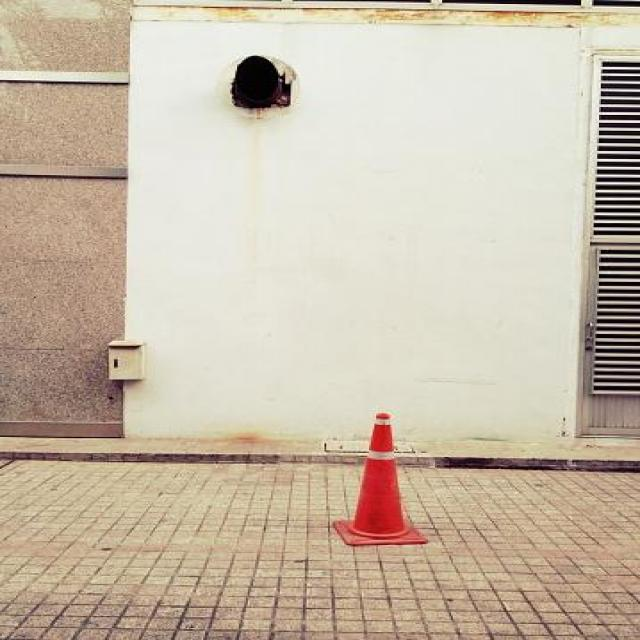Cone: (332, 410, 429, 548)
